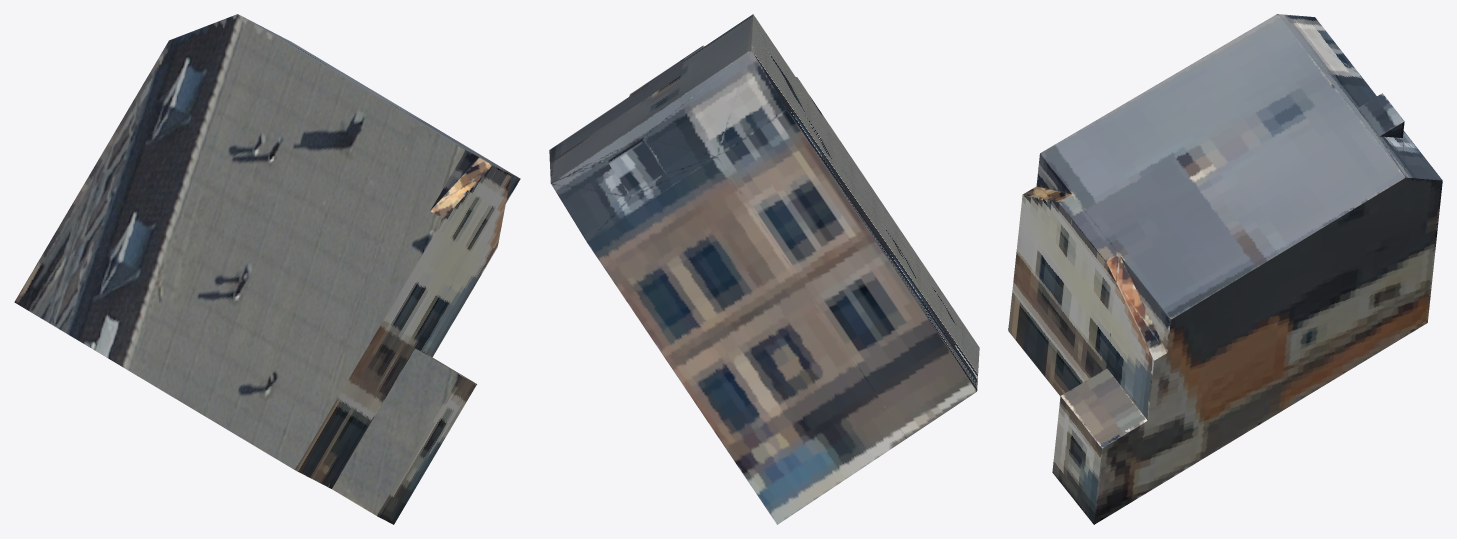
The picture shows the model from 3 angles, left to right: view 1: azimuth 30°, elevation 25°; view 2: azimuth 150°, elevation 25°; view 3: azimuth 270°, elevation 25°; orthographic projection. The views are drawn at different scales.
Visible parts, largest first — view 1: BAG_0599100000650090 (×4); view 2: BAG_0599100000650090 (×6); view 3: BAG_0599100000650090 (×6).
Part boxes in pixels (x1=…): BAG_0599100000650090 (×4): x1=14, y1=14, x2=518, y2=524; BAG_0599100000650090 (×6): x1=549, y1=14, x2=979, y2=524; BAG_0599100000650090 (×6): x1=1008, y1=14, x2=1442, y2=524.
Bounding box in the file's own units: 16.45 × 16.38 × 13.52.
Materials: 1 (1 with a texture image).
